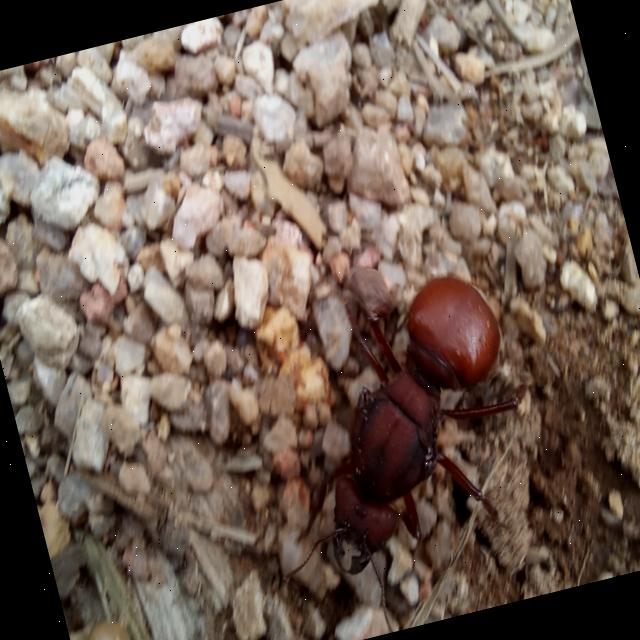Alive-Female-Dealate: (222, 260, 575, 640)
